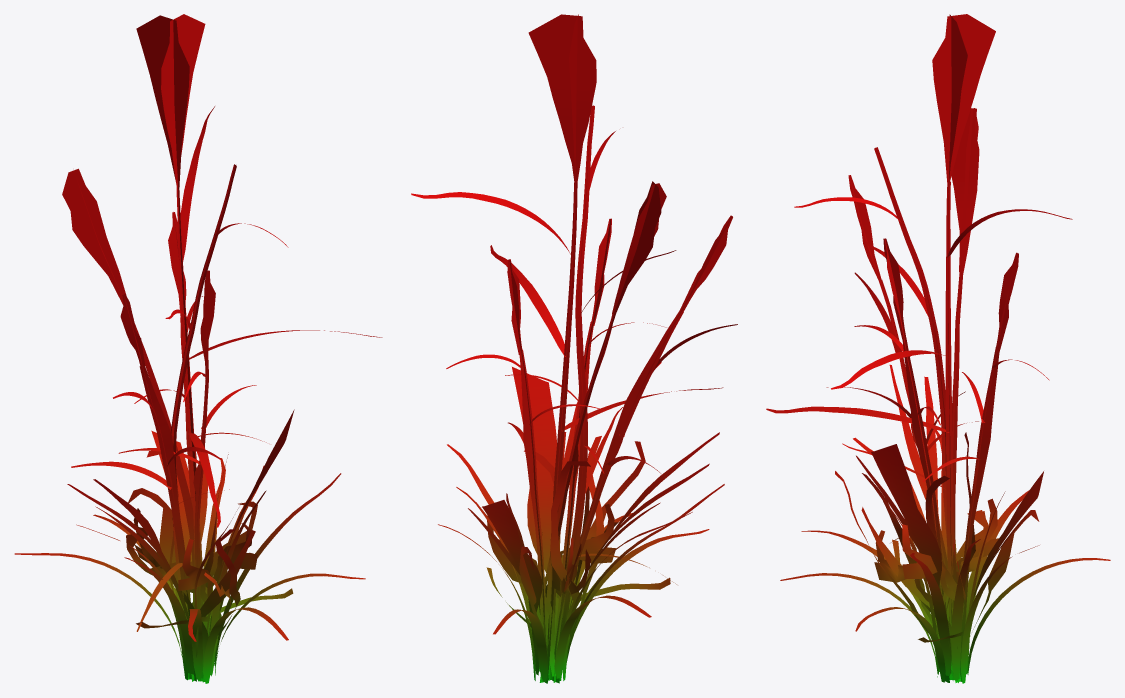
File: sltiN_Var2_LOD0.fbx
3 renders of one model, left to right at view 1: azimuth 30°, elevation 25°; view 2: azimuth 150°, elevation 25°; view 3: azimuth 270°, elevation 25°, orthographic. The views are drawn at different scales.
Parts seen in each view (by area): view 1: _d339_Var2_LOD0; view 2: _d339_Var2_LOD0; view 3: _d339_Var2_LOD0.
Part boxes in pixels (box(x1,y1,x2,y2)): _d339_Var2_LOD0: box(14, 14, 382, 683); _d339_Var2_LOD0: box(411, 14, 737, 683); _d339_Var2_LOD0: box(766, 14, 1110, 683).
Bounding box in the file's own units: 22.5 × 53.63 × 25.65.
